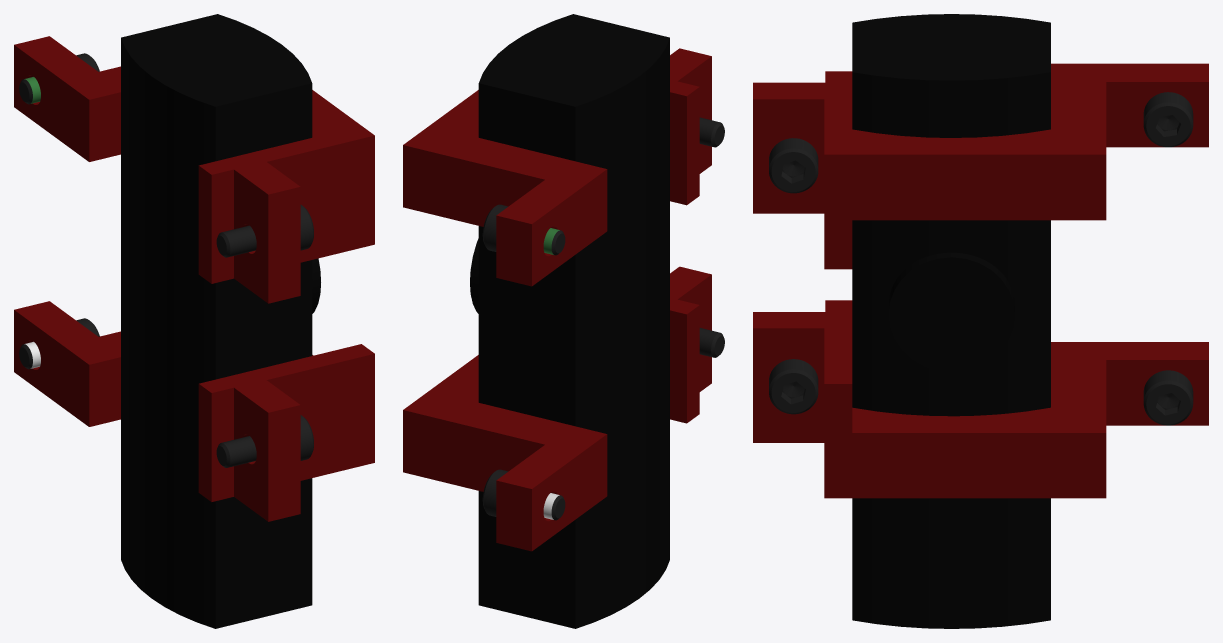
Rendered from camera_200_note_type_holder.dae.
3 renders of one model, left to right at view 1: azimuth 30°, elevation 25°; view 2: azimuth 150°, elevation 25°; view 3: azimuth 270°, elevation 25°, orthographic. The views are drawn at different scales.
Parts seen in each view (by area): view 1: Body_1 (×5); view 2: Body_1 (×5), _3DGeom_93 (×2); view 3: Body_1 (×5), _3DGeom_93 (×2).
Boxes of the visible parts, left/top/right/bottom form: Body_1 (×5): left=14, top=14, right=374, bottom=628; Body_1 (×5): left=403, top=14, right=724, bottom=628; _3DGeom_93 (×2): left=482, top=204, right=565, bottom=520; Body_1 (×5): left=753, top=14, right=1208, bottom=628; _3DGeom_93 (×2): left=1143, top=92, right=1193, bottom=425.
Size of the model in its own units: 0.0251 by 0.0505 by 0.067.
